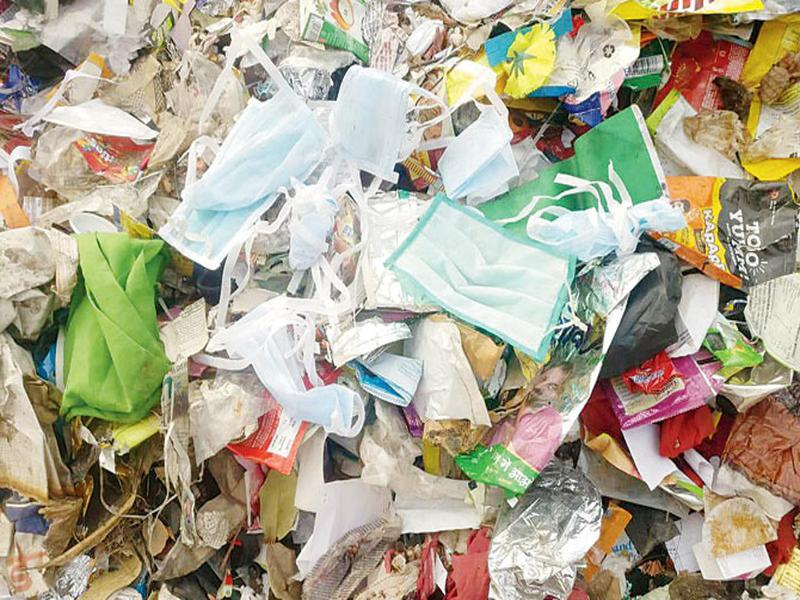mask: (153, 29, 333, 276), (373, 188, 583, 362), (206, 298, 367, 445)
paper: (651, 169, 800, 290)
plastic: (613, 327, 800, 495)
